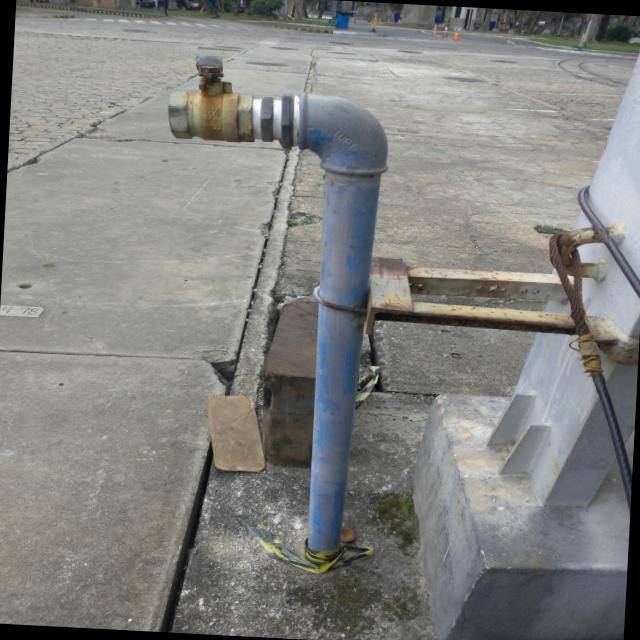gas: (298, 101, 384, 560)
